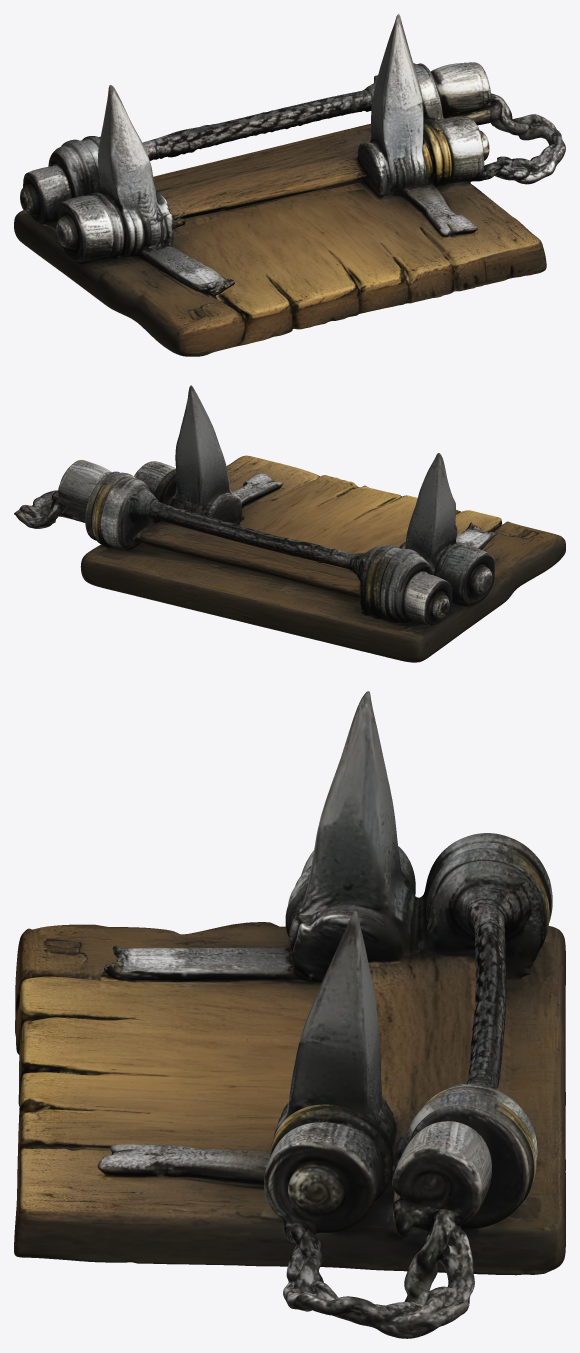
File: trap_trigger.glb
3 renders of one model, top to bottom at view 1: azimuth 30°, elevation 25°; view 2: azimuth 150°, elevation 25°; view 3: azimuth 270°, elevation 25°, orthographic. The views are drawn at different scales.
Visible parts, largest first — view 1: material; view 2: material; view 3: material.
Boxes of the visible parts, x1,y1,x2,y2 form: material: [14, 14, 565, 356]; material: [14, 385, 565, 662]; material: [14, 691, 565, 1338].
Size of the model in its own units: 1.06 by 0.3797 by 0.6021.
1 material, 1 textured.
